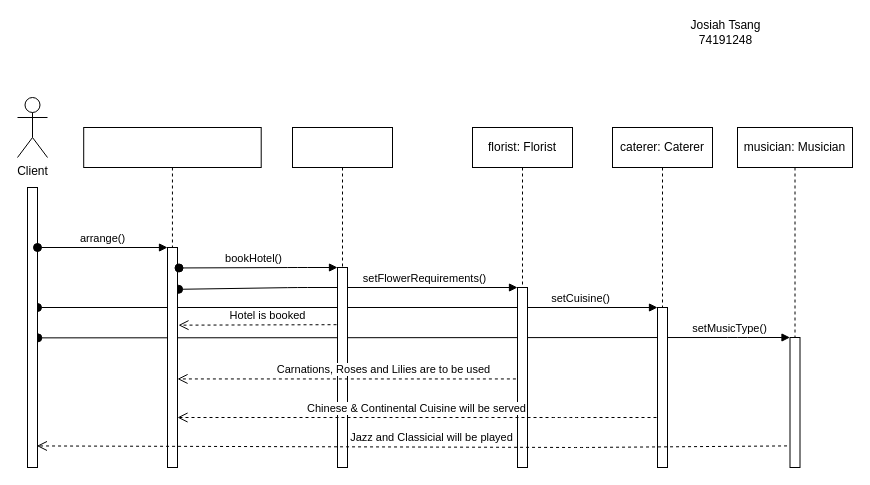
Some shapes in this 870 by 485 pixel diagram are drawn without their labels. The centre of each missing label's shape, as x and y in pixels:
eventManager: EventManager: the point at 172,187
hotelier: Hotelier: the point at 342,197
